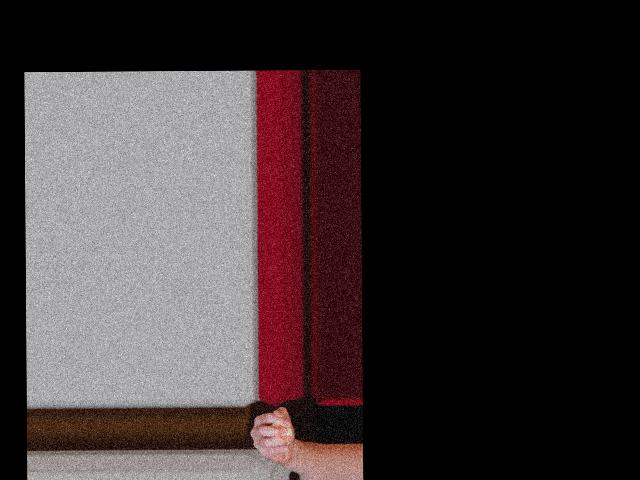egg: (268, 420, 292, 445)
